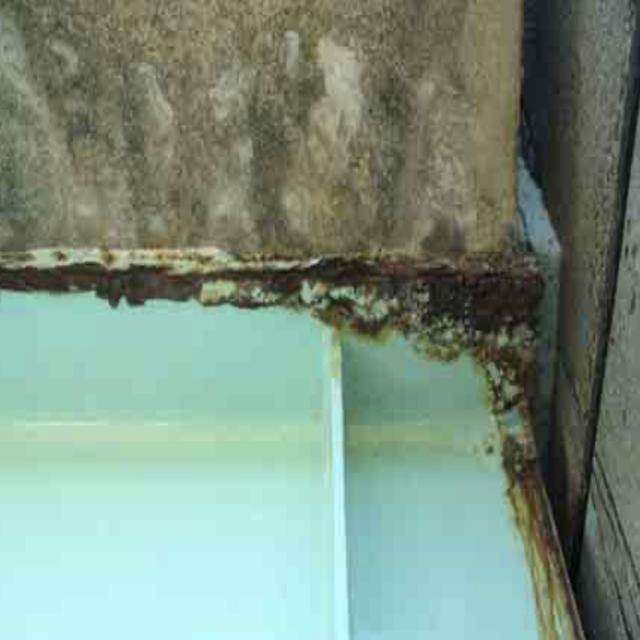corrosion: (1, 246, 533, 363), (486, 389, 586, 630)
